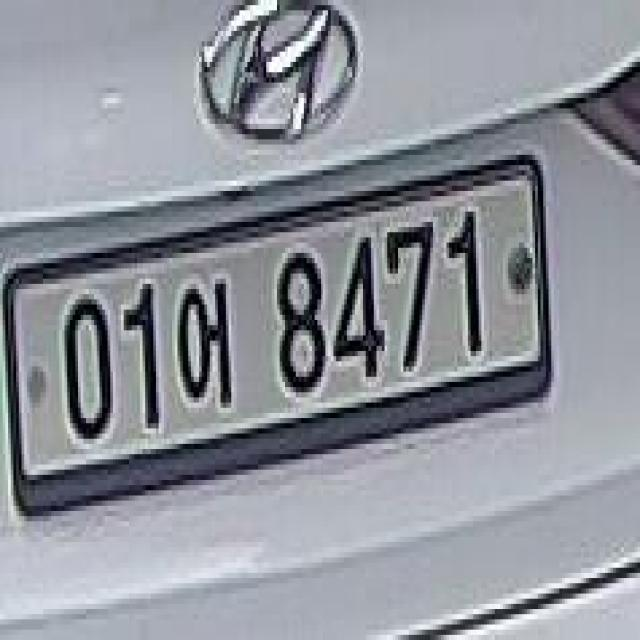illegal_plate: (6, 155, 566, 520)
